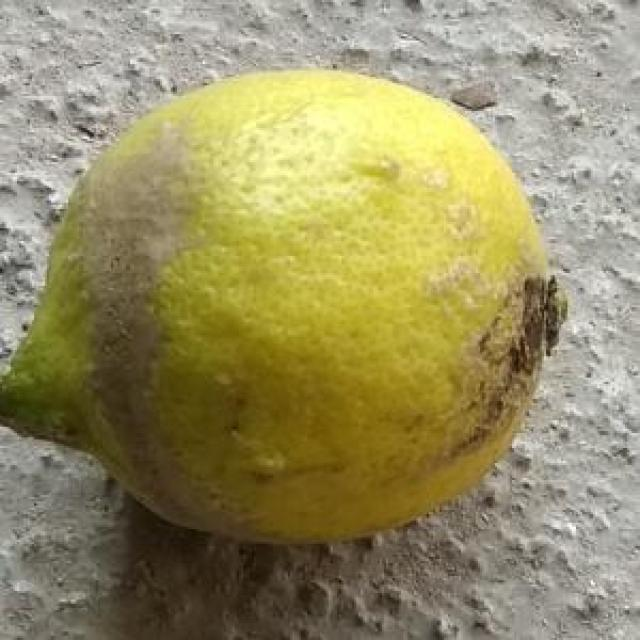lemon: (4, 76, 567, 540)
